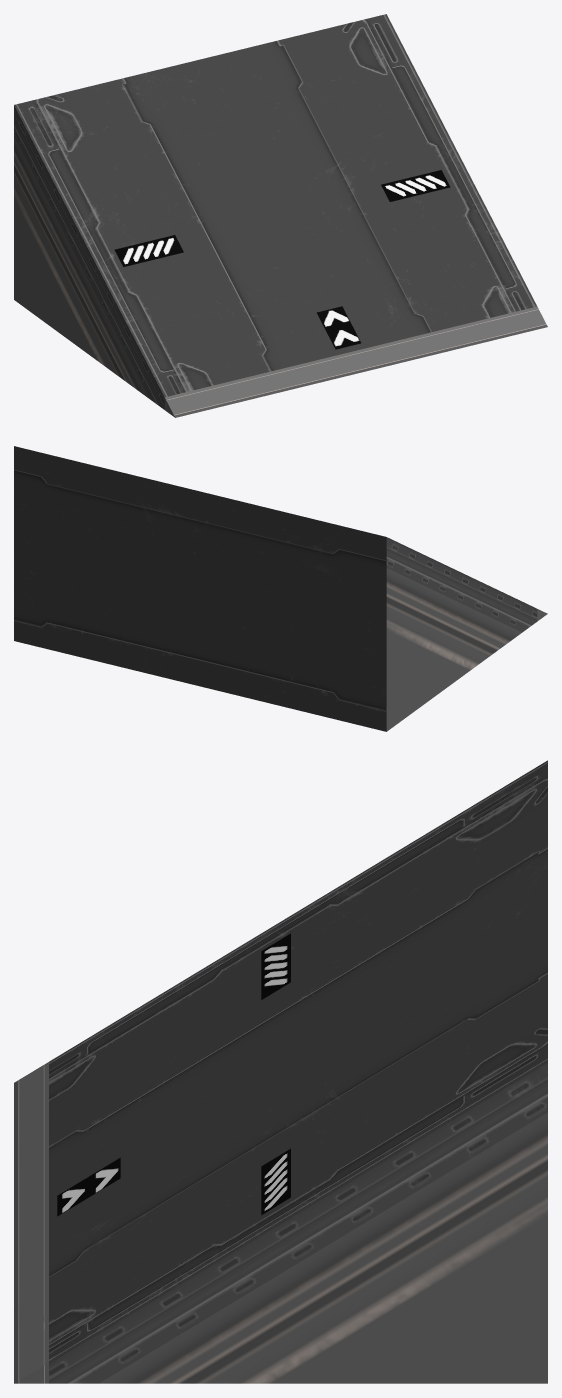
The model's file is S_PlatformRamp2Short.gltf.
3 views of the same model, one above another, from view 1: azimuth 30°, elevation 25°; view 2: azimuth 150°, elevation 25°; view 3: azimuth 270°, elevation 25° (orthographic). The views are drawn at different scales.
Visible parts, largest first — view 1: Cube_010-col; view 2: Cube_010-col; view 3: Cube_010-col.
Boxes of the visible parts, x1,y1,x2,y2 form: Cube_010-col: (14,14,547,417); Cube_010-col: (14,446,547,731); Cube_010-col: (14,760,547,1383).
Bounding box in the file's own units: 2 × 1 × 1.5.
Materials: 3 (3 with a texture image).
